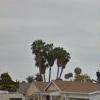Palm tree: (26, 34, 71, 83)
